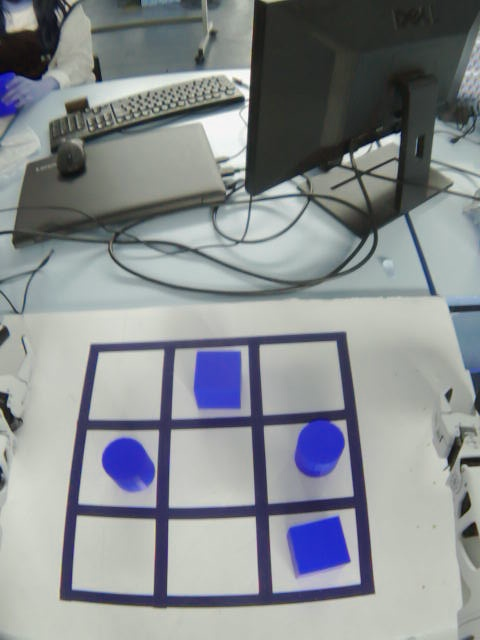cube: (280, 513, 359, 581), (188, 343, 246, 415)
cylinder: (99, 433, 161, 501), (290, 413, 347, 483)
empty: (161, 511, 269, 604), (162, 423, 264, 519), (67, 508, 164, 603), (253, 337, 351, 421), (86, 343, 170, 427)
